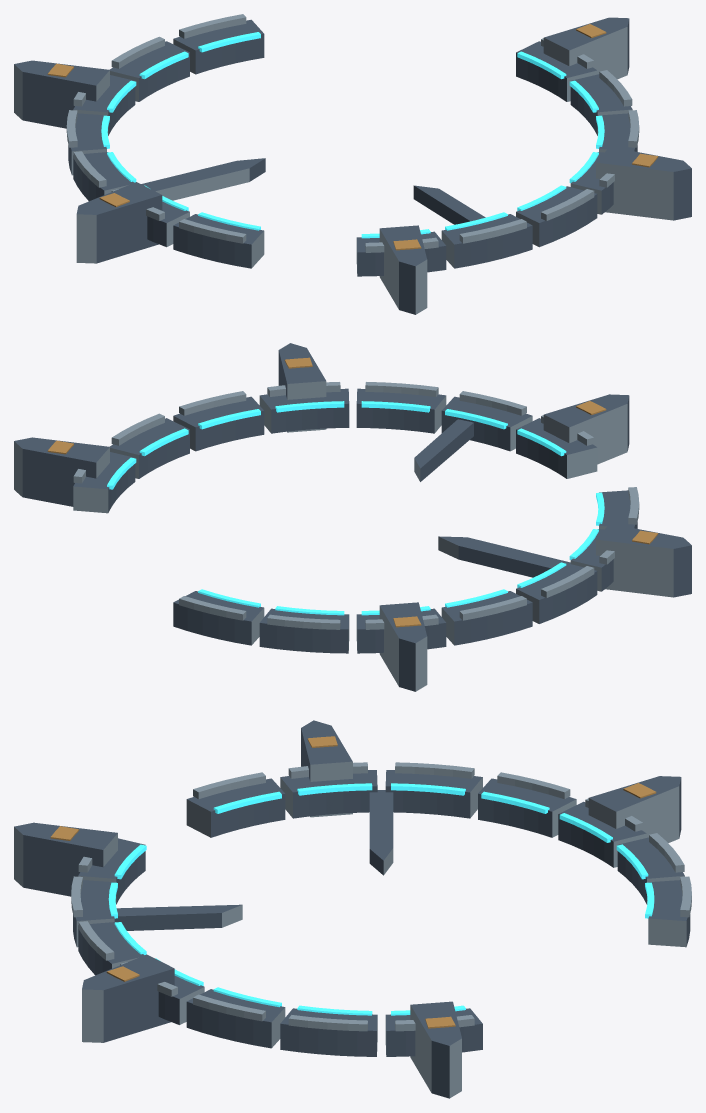
File: broken_orbital_relay.glb
3 views of the same model, one above another, from view 1: azimuth 30°, elevation 25°; view 2: azimuth 150°, elevation 25°; view 3: azimuth 270°, elevation 25° (orthographic). The views are drawn at different scales.
Visible parts, largest first — view 1: Broken Orbital Relay; view 2: Broken Orbital Relay; view 3: Broken Orbital Relay.
Part boxes in pixels (x1,y1,x2,y2): Broken Orbital Relay: (14, 14, 691, 314); Broken Orbital Relay: (14, 343, 691, 691); Broken Orbital Relay: (14, 720, 691, 1098).
Size of the model in its own units: 14.97 by 1.16 by 13.17.
